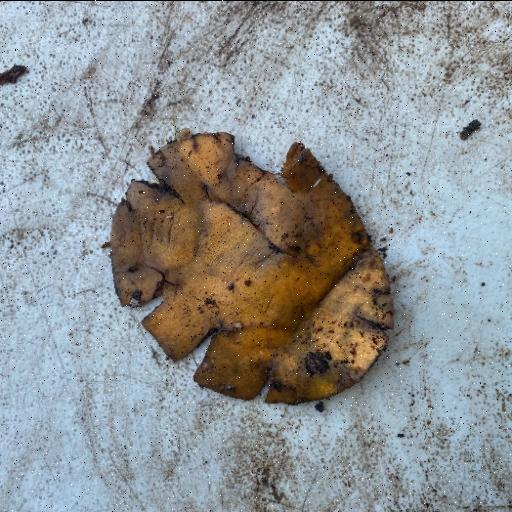Waste: (104, 128, 394, 406)
